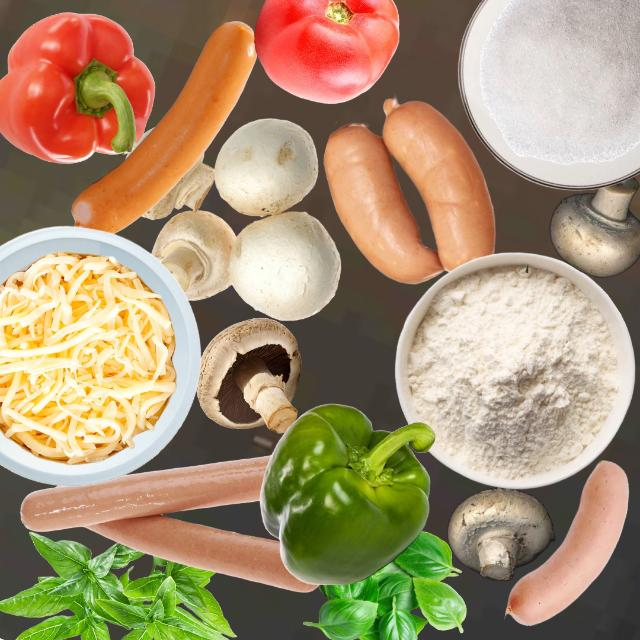Flour: (405, 264, 619, 479)
Sugar: (478, 0, 639, 164)
